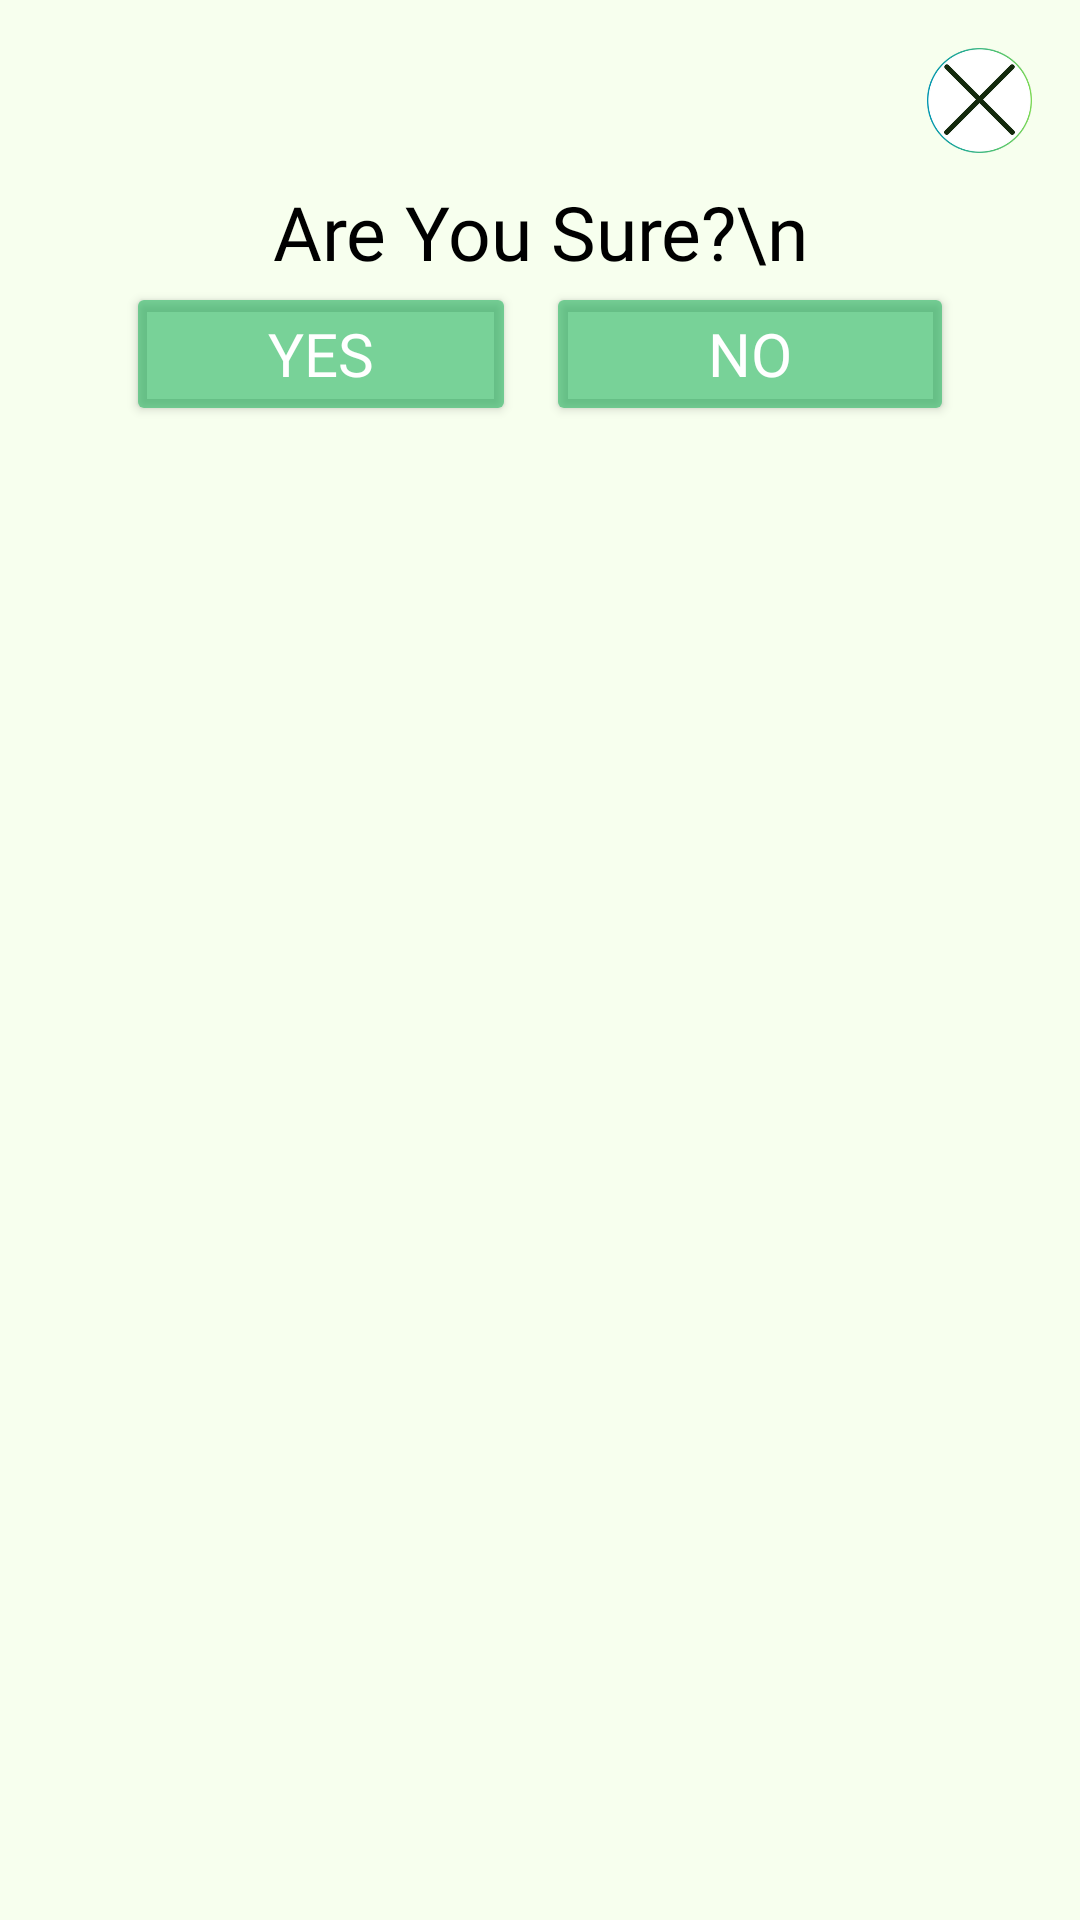

Where to tap for icons on this 1080px×1920px app screen, as point (x, y):
exit: point (979, 100)
